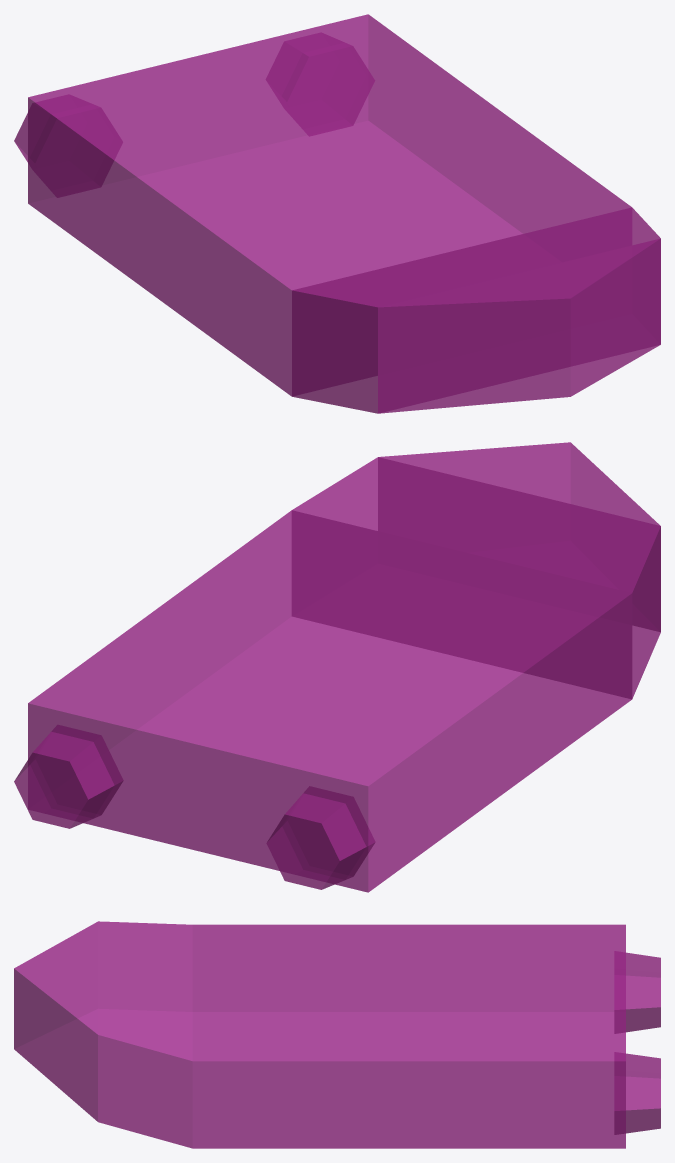
Rendered from SM_Veh_RIB_Boat_01_Collision.fbx.
The picture shows the model from 3 angles, top to bottom: view 1: azimuth 30°, elevation 25°; view 2: azimuth 150°, elevation 25°; view 3: azimuth 270°, elevation 25°; orthographic projection. The views are drawn at different scales.
Parts seen in each view (by area): view 1: SM_Veh_RIB_Boat_01_Collision; view 2: SM_Veh_RIB_Boat_01_Collision; view 3: SM_Veh_RIB_Boat_01_Collision.
Boxes of the visible parts, bbox=[...] form: SM_Veh_RIB_Boat_01_Collision: bbox=[14, 14, 660, 413]; SM_Veh_RIB_Boat_01_Collision: bbox=[14, 442, 660, 892]; SM_Veh_RIB_Boat_01_Collision: bbox=[14, 921, 660, 1148].
Bounding box in the file's own units: 228 × 86.98 × 456.
